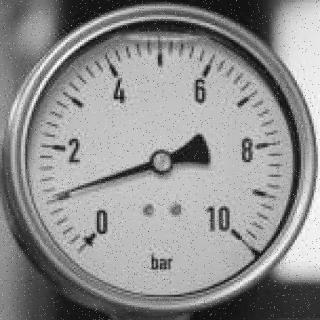gauge: (0, 0, 320, 320), (201, 204, 249, 255), (72, 205, 116, 258), (150, 148, 175, 176), (51, 189, 65, 201)
